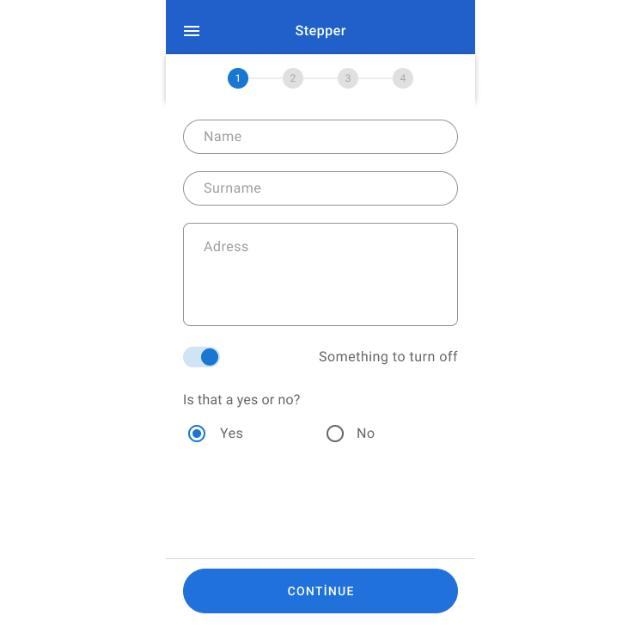QLabel: (313, 350, 463, 364), (179, 393, 299, 407), (286, 584, 358, 598), (294, 24, 348, 38), (219, 427, 243, 439), (354, 427, 376, 439)
VAppBar: (166, 0, 476, 52)
VBtn: (182, 569, 458, 615)
VDivider: (248, 76, 282, 80), (304, 76, 336, 80), (358, 77, 392, 79)
VFooter: (158, 560, 482, 640)
VIcon: (182, 24, 200, 38)
VRadio: (186, 422, 206, 443), (326, 425, 344, 443)
VStepper: (172, 61, 468, 452)
VSwitch: (182, 346, 218, 368)
VTextField: (182, 118, 458, 156), (180, 170, 460, 206)
VTextarea: (181, 221, 459, 329)
